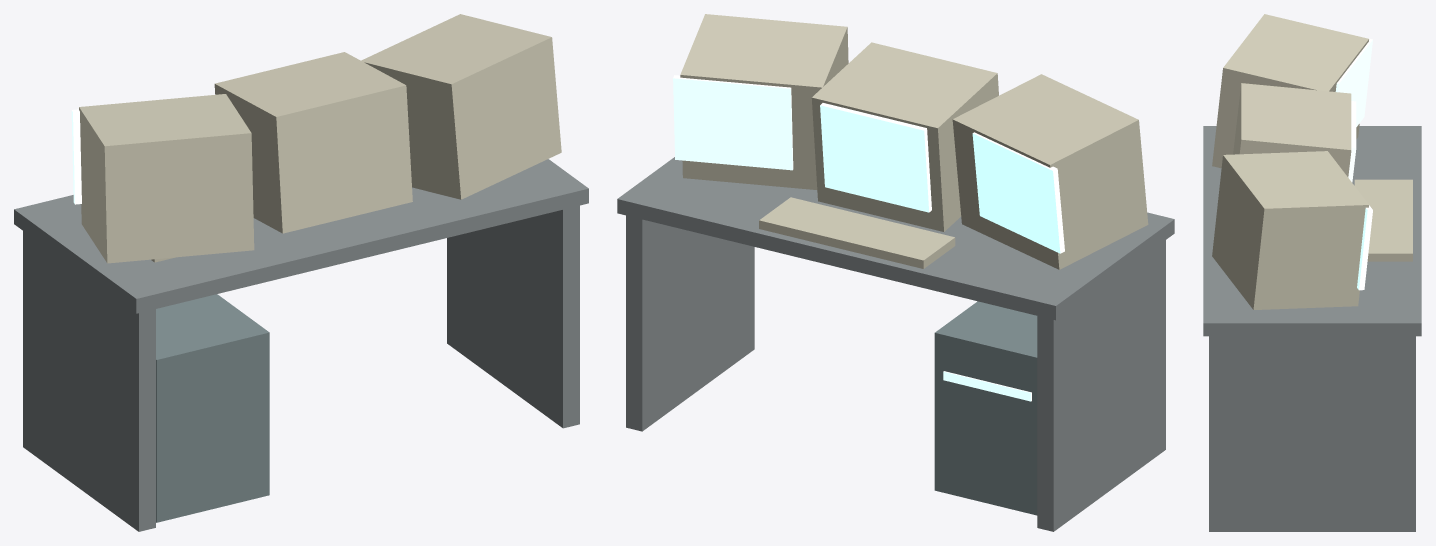
The model's file is boat_terminal.fbx.
3 renders of one model, left to right at view 1: azimuth 30°, elevation 25°; view 2: azimuth 150°, elevation 25°; view 3: azimuth 270°, elevation 25°, orthographic. The views are drawn at different scales.
Parts seen in each view (by area): view 1: boat_terminal; view 2: boat_terminal; view 3: boat_terminal.
Boxes of the visible parts, <box> form: boat_terminal: <box>14,14,588,531</box>; boat_terminal: <box>617,14,1174,531</box>; boat_terminal: <box>1203,14,1421,531</box>.
Size of the model in its own units: 1.61 by 1.23 by 0.75.
